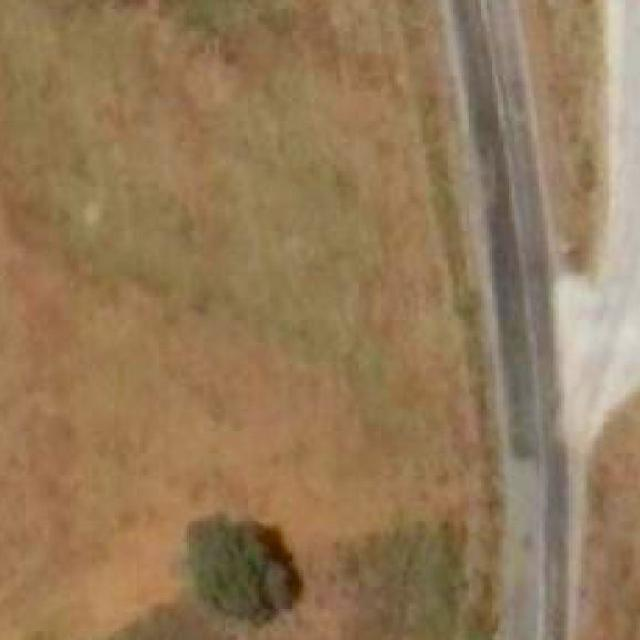Tree: (187, 520, 281, 618)
